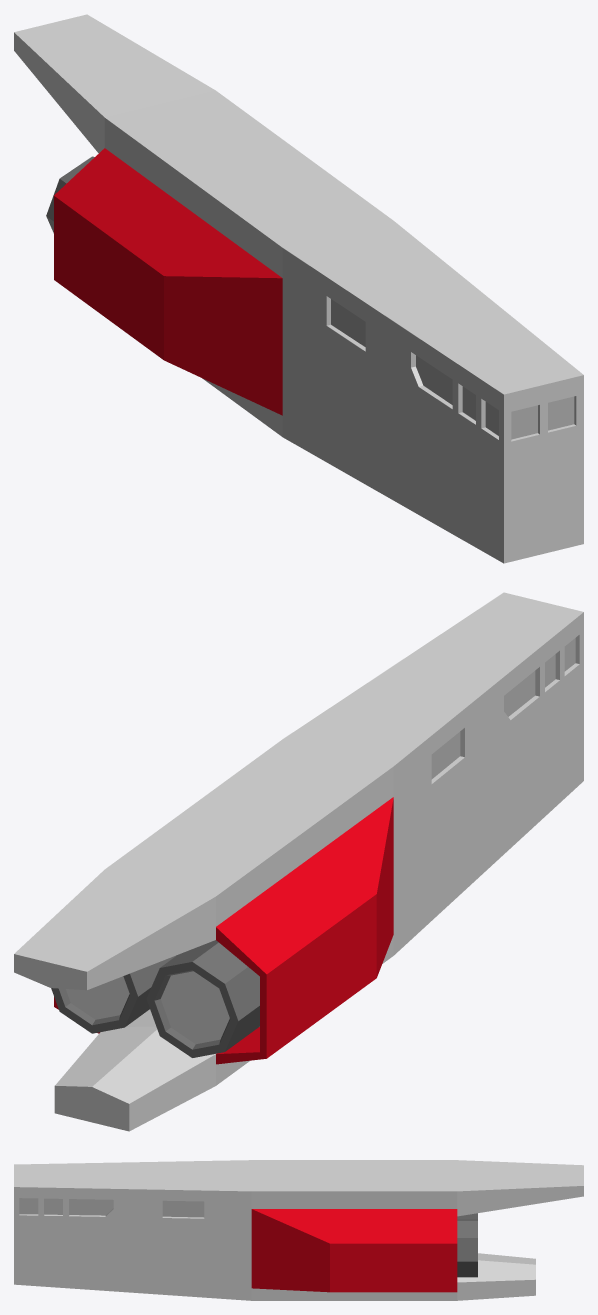
Rendered from DefenceBatteryAlly.fbx.
3 renders of one model, top to bottom at view 1: azimuth 30°, elevation 25°; view 2: azimuth 150°, elevation 25°; view 3: azimuth 270°, elevation 25°, orthographic. The views are drawn at different scales.
Visible parts, largest first — view 1: AllyShip; view 2: AllyShip; view 3: AllyShip.
Boxes of the visible parts, x1,y1,x2,y2 form: AllyShip: (14, 14, 583, 563); AllyShip: (14, 592, 583, 1131); AllyShip: (14, 1160, 583, 1300).
Size of the model in its own units: 264 by 225 by 1058.
